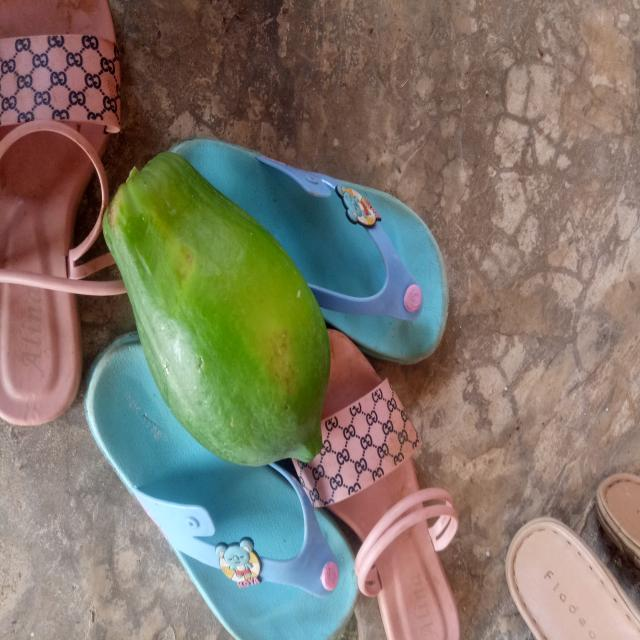Pepaya unrippen: (99, 152, 337, 508)
